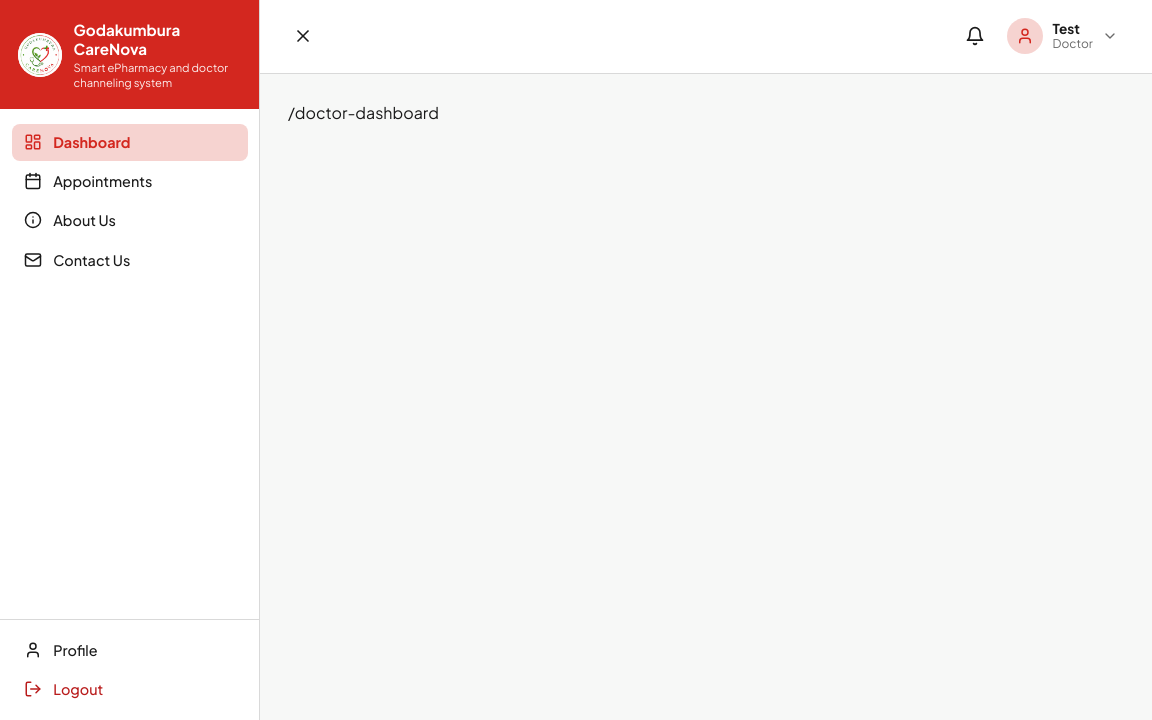
Test case: DashboardLayout › opens doctor appointments from the sidebar
Click the link "Appointments" at (88, 181), box [24,172,152,190]
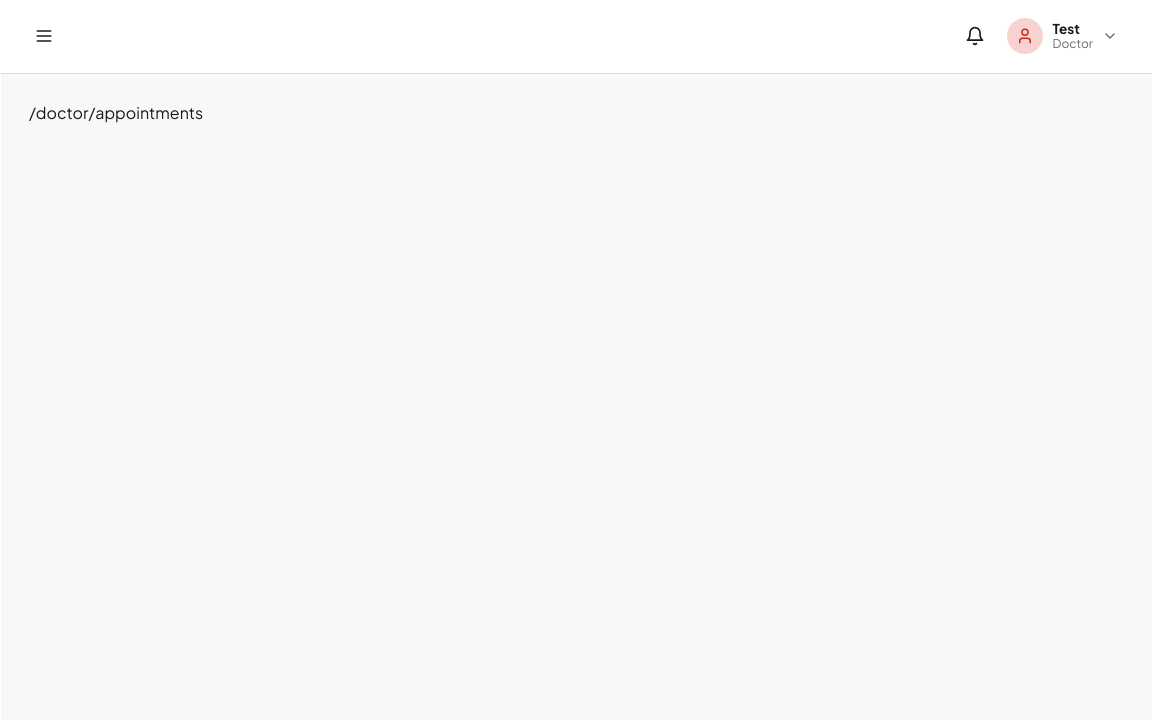
Expected: the text "/doctor/appointments" is shown, [29,102,203,123]
